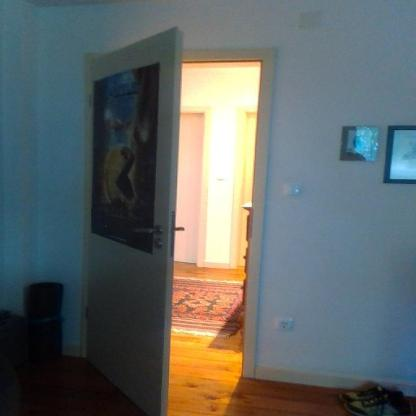door: (89, 27, 261, 412)
